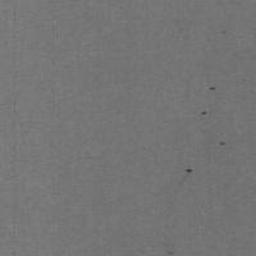Inclusion: (209, 84, 218, 92), (220, 29, 230, 36), (184, 168, 195, 174), (200, 109, 209, 116), (219, 140, 227, 146), (166, 251, 175, 256)
